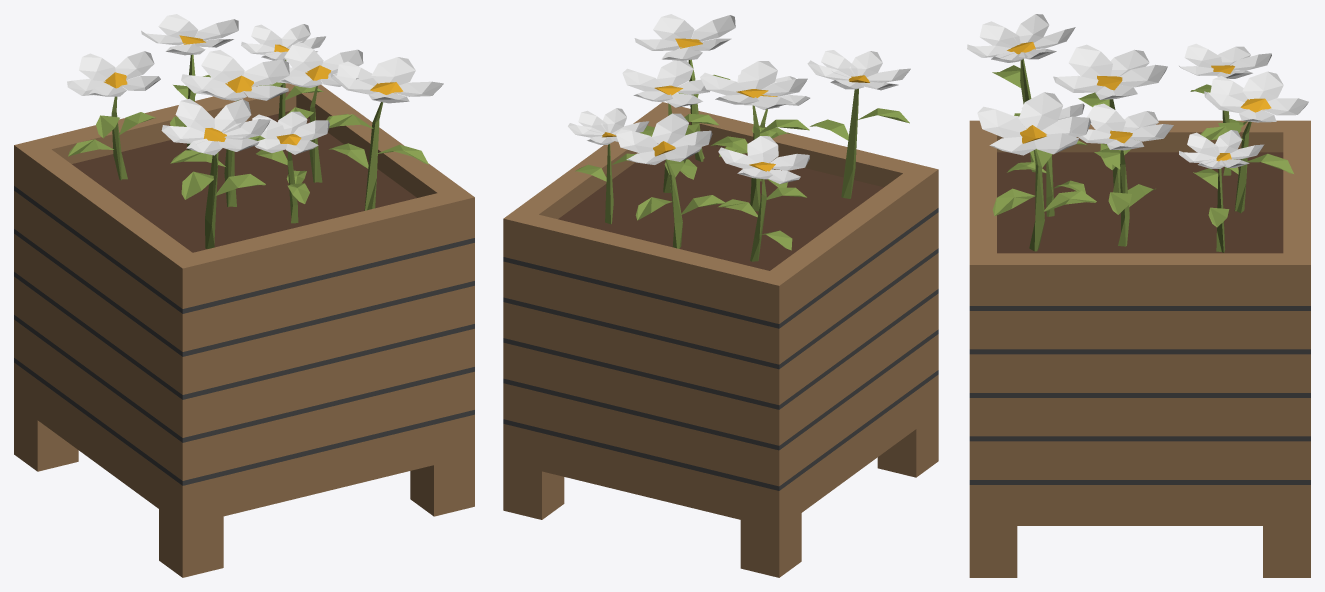
Rendered from Pot_01.fbx.
3 views of the same model, side by side, from view 1: azimuth 30°, elevation 25°; view 2: azimuth 150°, elevation 25°; view 3: azimuth 270°, elevation 25° (orthographic). The views are drawn at different scales.
Visible parts, largest first — view 1: Pot_01; view 2: Pot_01; view 3: Pot_01.
Part boxes in pixels (box(x1,y1,x2,y2)): Pot_01: box(14, 14, 474, 577); Pot_01: box(503, 14, 938, 577); Pot_01: box(967, 14, 1310, 577).
Size of the model in its own units: 59.33 by 83.13 by 59.76.
